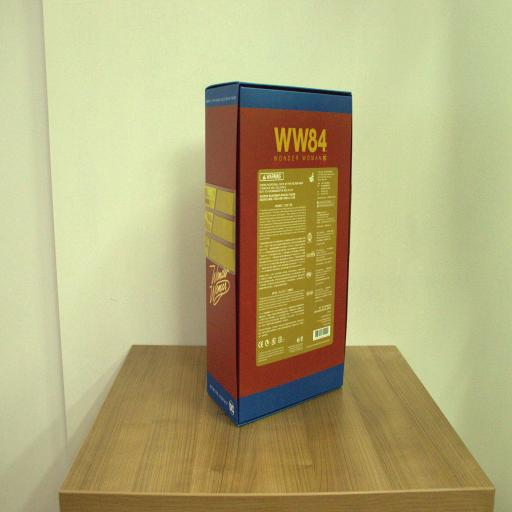WonderWoman: (204, 81, 353, 426)
